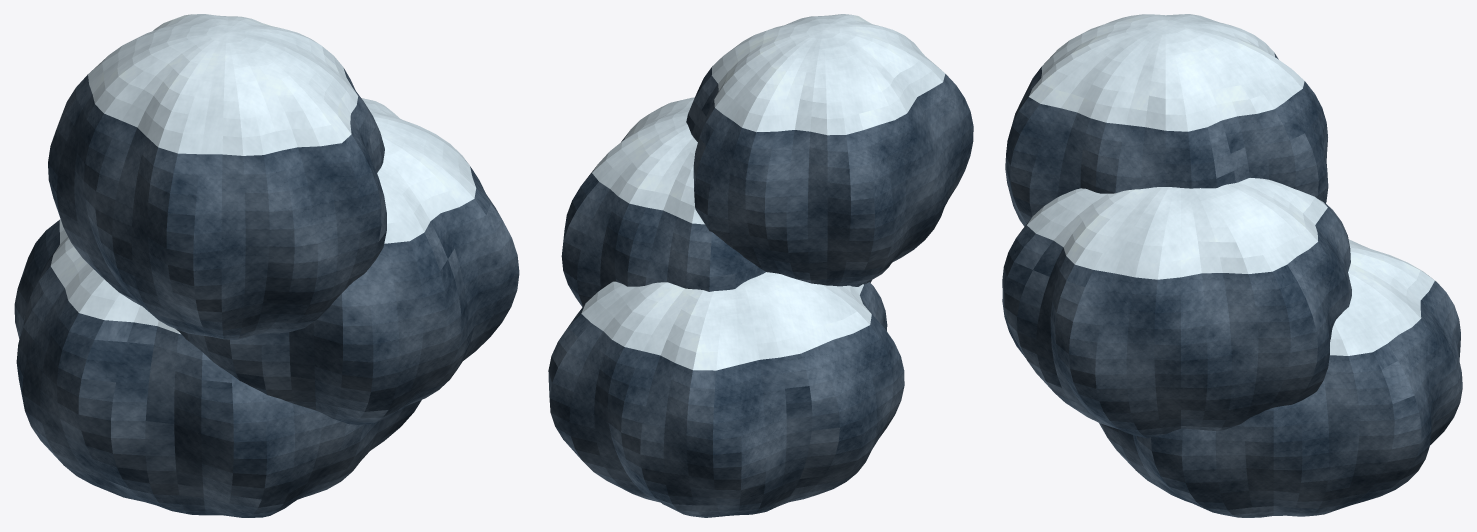
The model's file is ThirdRoom_CliffMass.fbx.
The picture shows the model from 3 angles, left to right: view 1: azimuth 30°, elevation 25°; view 2: azimuth 150°, elevation 25°; view 3: azimuth 270°, elevation 25°; orthographic projection. The views are drawn at different scales.
Parts seen in each view (by area): view 1: WO_ThirdRoom_CliffMass_LOD0; view 2: WO_ThirdRoom_CliffMass_LOD0; view 3: WO_ThirdRoom_CliffMass_LOD0.
Part boxes in pixels (bbox=[...]): WO_ThirdRoom_CliffMass_LOD0: bbox=[14, 14, 519, 517]; WO_ThirdRoom_CliffMass_LOD0: bbox=[548, 14, 973, 517]; WO_ThirdRoom_CliffMass_LOD0: bbox=[1002, 14, 1462, 517].
Size of what is drawn, in the model's own units: 4.68 by 6 by 5.54.
